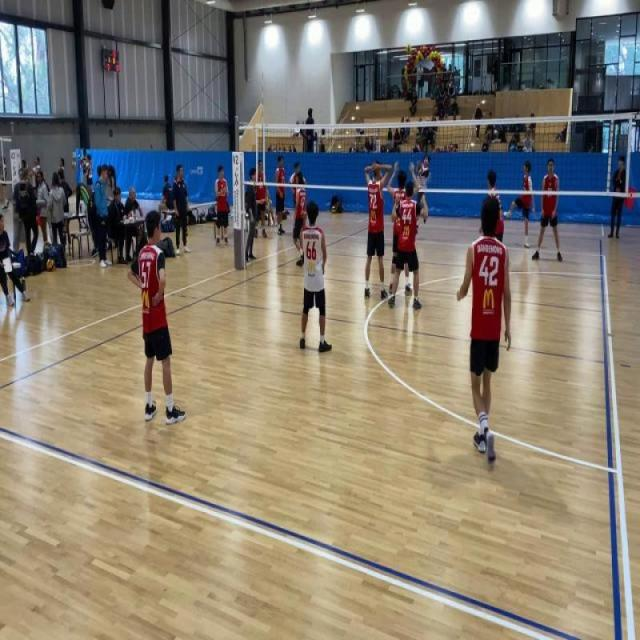volleyball: (46, 258, 55, 272), (406, 42, 412, 56), (71, 160, 77, 171), (331, 204, 336, 214), (186, 226, 188, 237)
